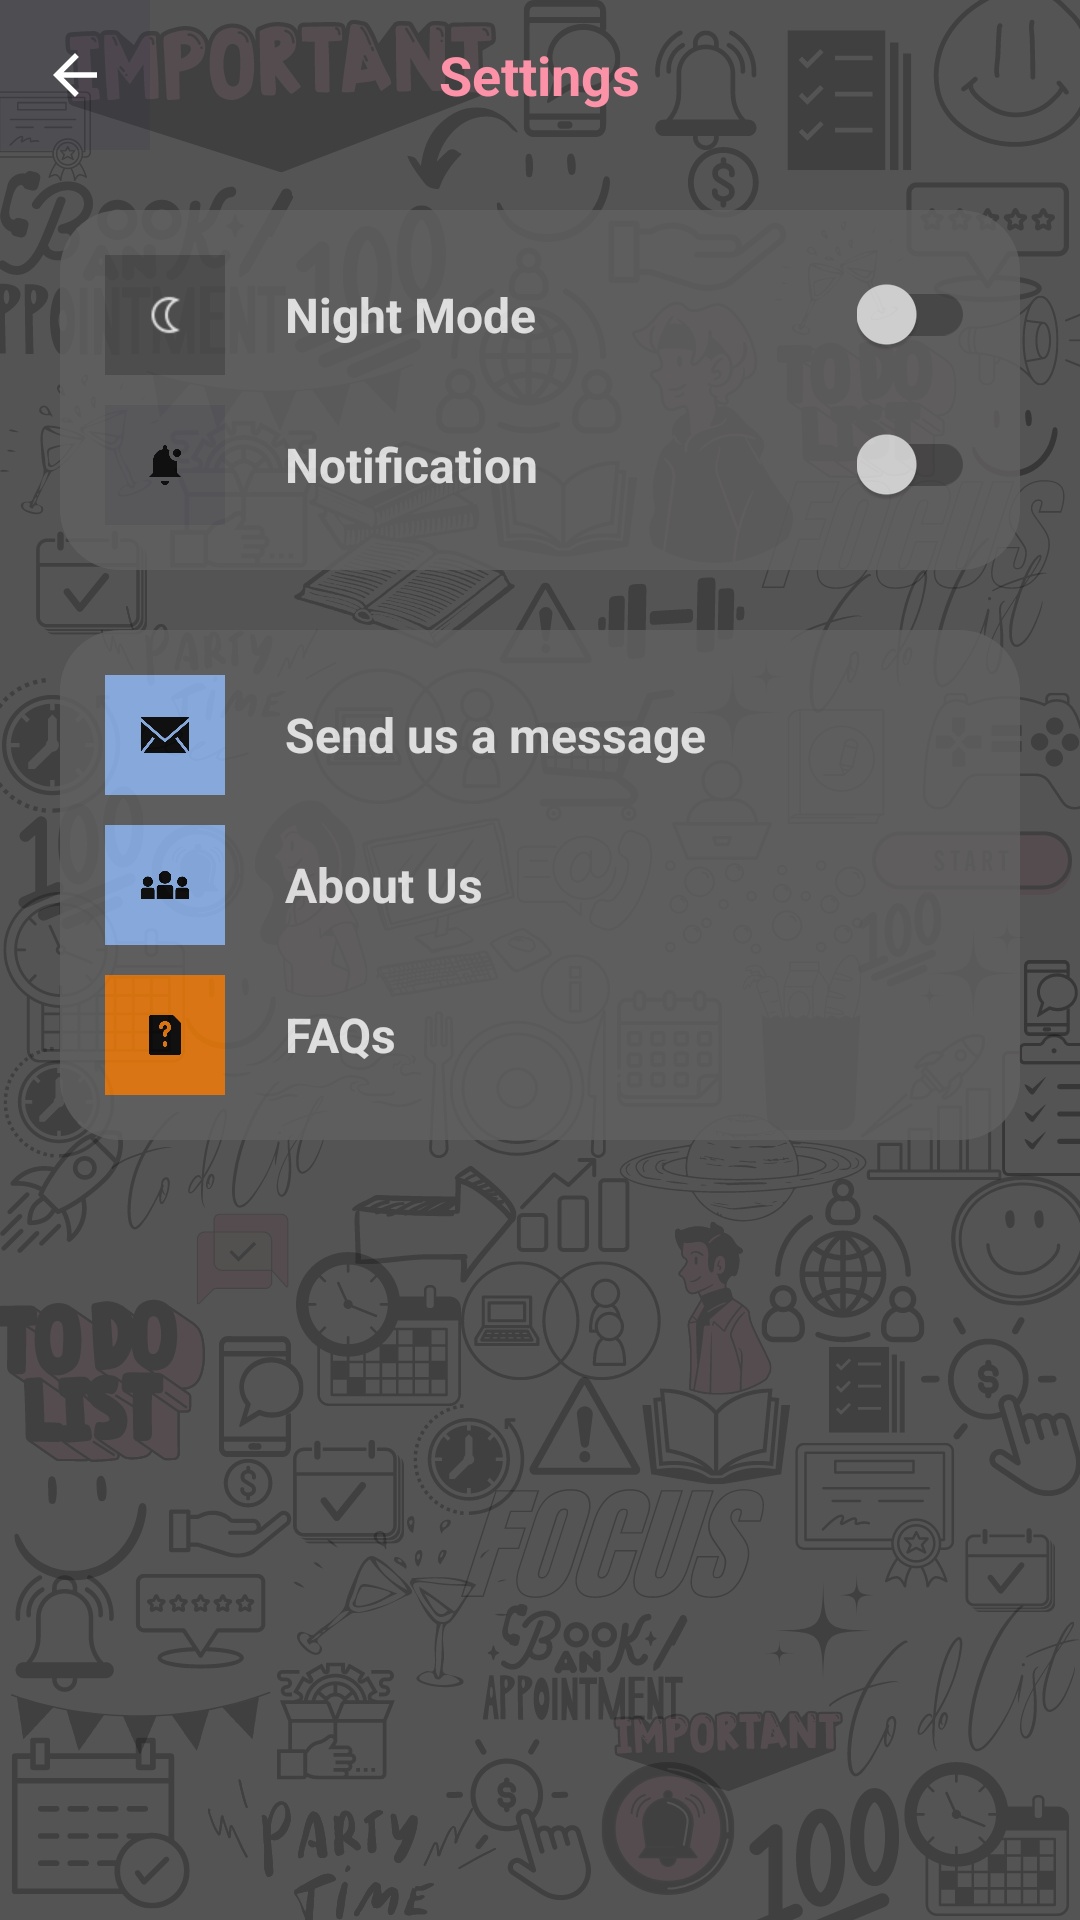

Locate icon controls on the screen. Image size 1080×1920, boxes as (x1, y1, x2, y2).
back: (53, 53, 97, 111)
faq: (105, 975, 225, 1095)
moonwhite: (105, 255, 225, 375)
